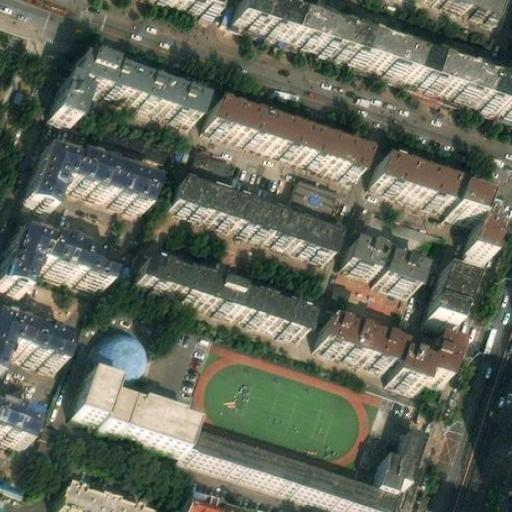building: (186, 425, 394, 512), (169, 177, 340, 259), (138, 252, 312, 332), (202, 101, 363, 178), (354, 34, 509, 107), (48, 54, 202, 127), (23, 132, 155, 209), (100, 384, 197, 448), (316, 312, 401, 367), (28, 234, 112, 289), (379, 153, 467, 203), (371, 426, 420, 490), (1, 326, 66, 372), (54, 482, 147, 512), (426, 263, 472, 321), (0, 231, 37, 296), (293, 167, 344, 205), (73, 372, 113, 420), (106, 327, 149, 369), (342, 244, 387, 284), (378, 257, 424, 296), (388, 346, 431, 387), (477, 203, 511, 251), (426, 336, 461, 380), (0, 410, 35, 452), (459, 177, 495, 213), (181, 496, 240, 512)
